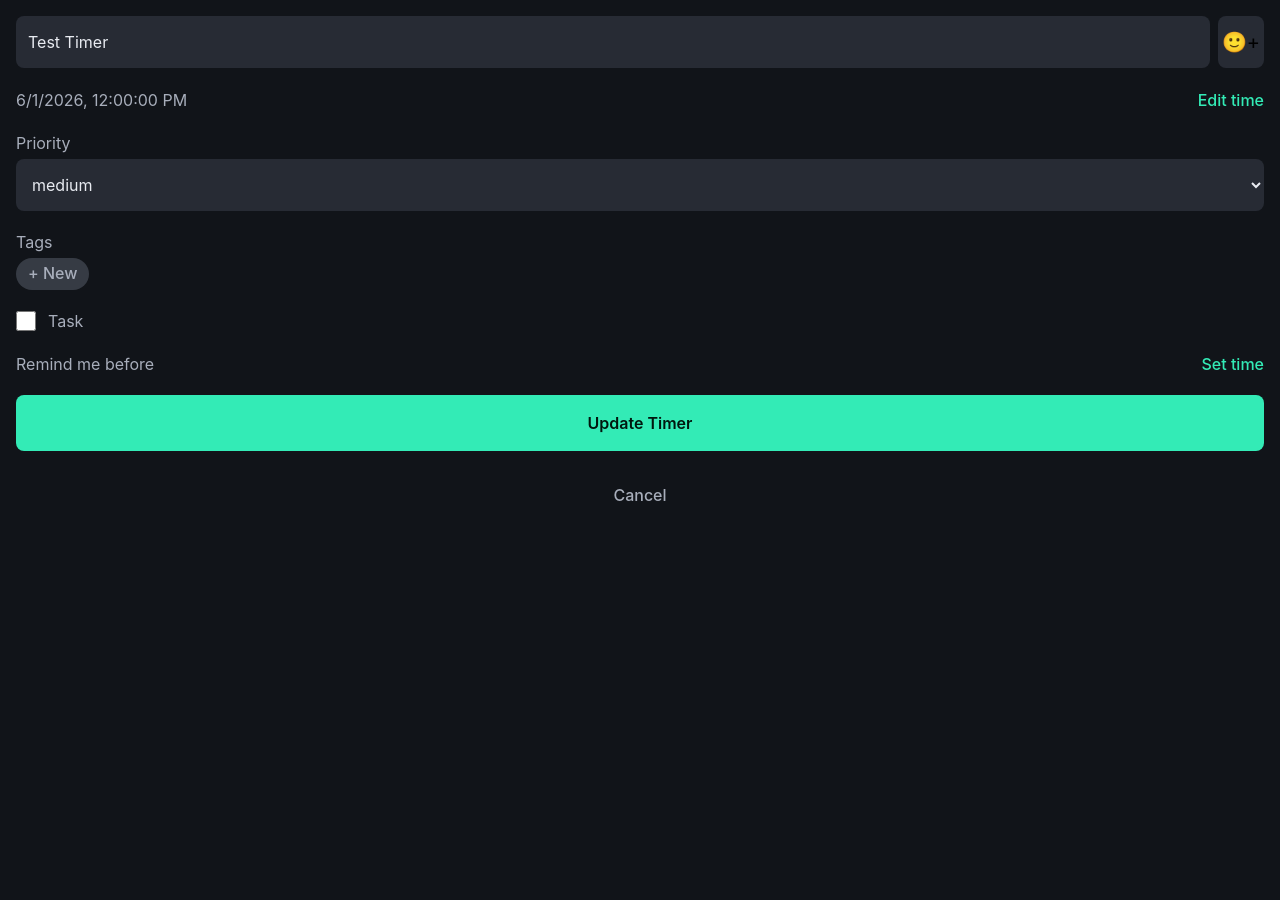
Scenario: EditTimerView — edit mode › when time edit is unlocked › shows the mode toggle and duration inputs
Click the button "Edit time": [1231, 100] box [1198,89,1264,111]
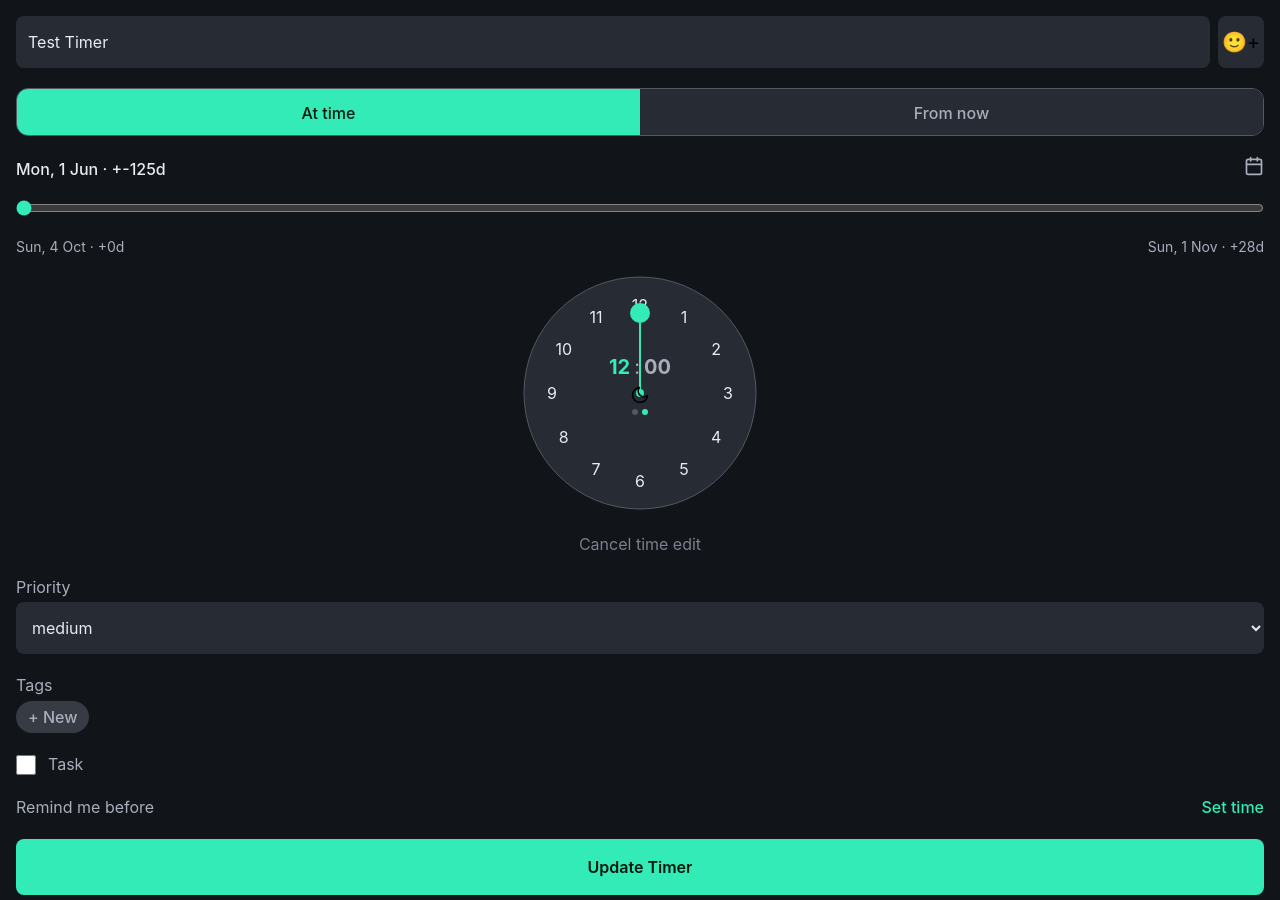
Expected: the button "From now" is shown, [640,89,1263,135]
Expected: the button "At time" is shown, [17,89,640,135]
